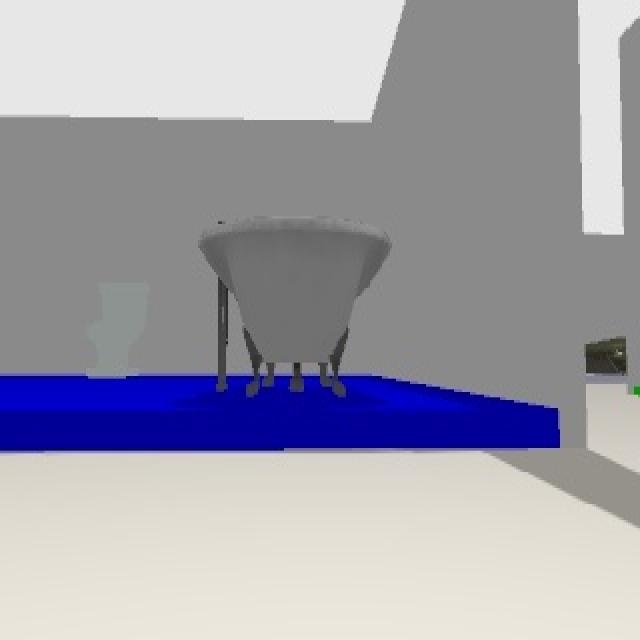bathtub: (198, 219, 394, 397)
